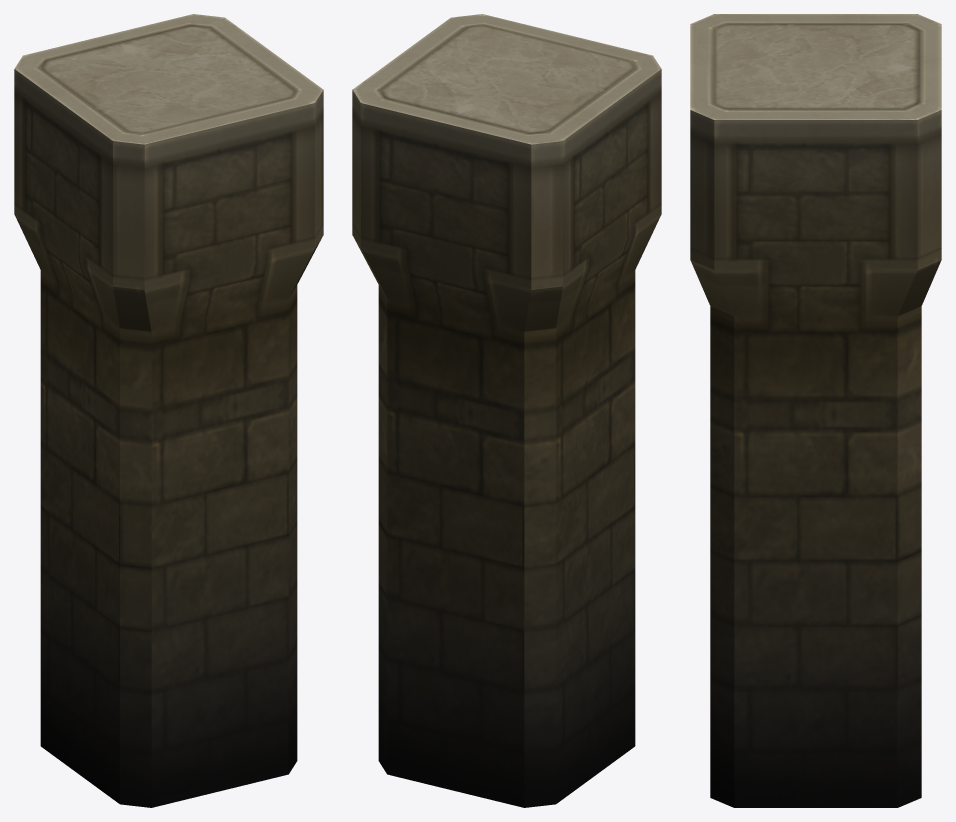
File: GHmG_2_01.FBX
3 renders of one model, left to right at view 1: azimuth 30°, elevation 25°; view 2: azimuth 150°, elevation 25°; view 3: azimuth 270°, elevation 25°, orthographic. The views are drawn at different scales.
Parts seen in each view (by area): view 1: Box10; view 2: Box10; view 3: Box10.
Boxes of the visible parts, <box> form: Box10: <box>14,14,323,807</box>; Box10: <box>352,14,661,807</box>; Box10: <box>690,14,941,807</box>.
Size of the model in its own units: 2 by 6.12 by 2.
